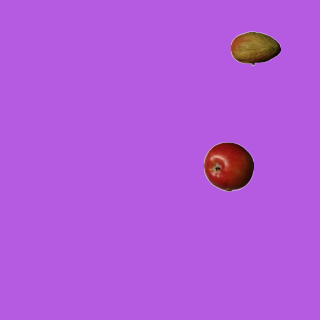Apple Braeburn: (203, 141, 253, 191)
Papaya: (230, 23, 280, 73)
